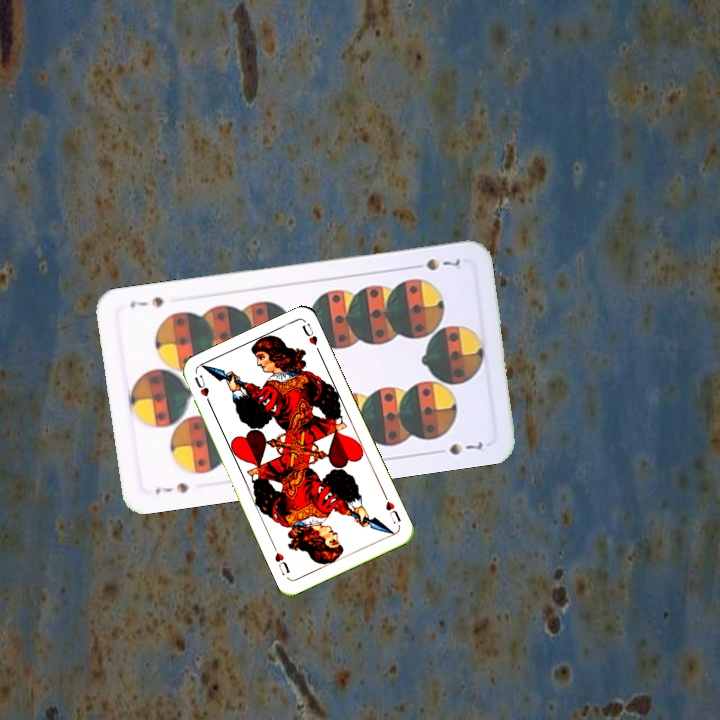HU: (190, 371, 214, 409), (380, 491, 403, 526)
S7: (407, 254, 463, 274), (151, 478, 192, 497)
